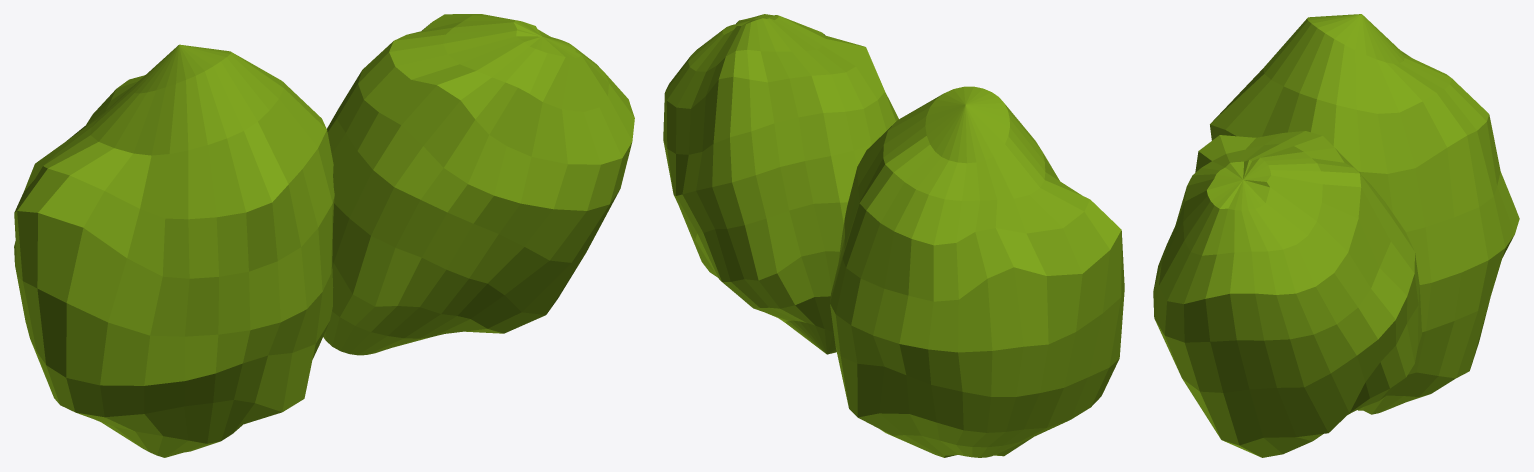
Rendered from tree-summer-leaves-12-043.glb.
3 renders of one model, left to right at view 1: azimuth 30°, elevation 25°; view 2: azimuth 150°, elevation 25°; view 3: azimuth 270°, elevation 25°, orthographic. The views are drawn at different scales.
Parts seen in each view (by area): view 1: TREE 12_284; view 2: TREE 12_284; view 3: TREE 12_284.
Boxes of the visible parts, x1,y1,x2,y2 form: TREE 12_284: (14,14,634,457); TREE 12_284: (663,14,1124,457); TREE 12_284: (1153,14,1519,457).
Size of the model in its own units: 1.4 by 0.9692 by 0.828.
